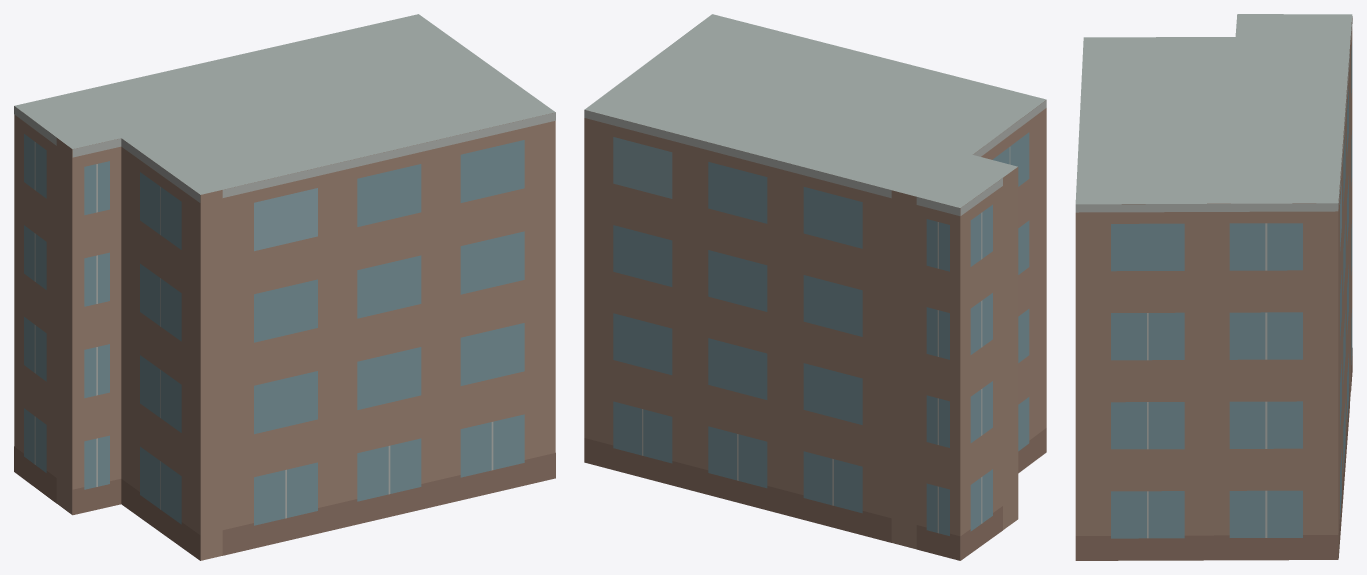
The model's file is survey-upis-32749168.glb.
3 renders of one model, left to right at view 1: azimuth 30°, elevation 25°; view 2: azimuth 150°, elevation 25°; view 3: azimuth 270°, elevation 25°, orthographic. The views are drawn at different scales.
Parts seen in each view (by area): view 1: survey-upis-32749168.tmp; view 2: survey-upis-32749168.tmp; view 3: survey-upis-32749168.tmp.
Boxes of the visible parts, bbox=[...] form: survey-upis-32749168.tmp: bbox=[14, 14, 555, 560]; survey-upis-32749168.tmp: bbox=[584, 14, 1046, 560]; survey-upis-32749168.tmp: bbox=[1075, 14, 1352, 560].
Bounding box in the file's own units: 12.14 × 10.6 × 7.47.
